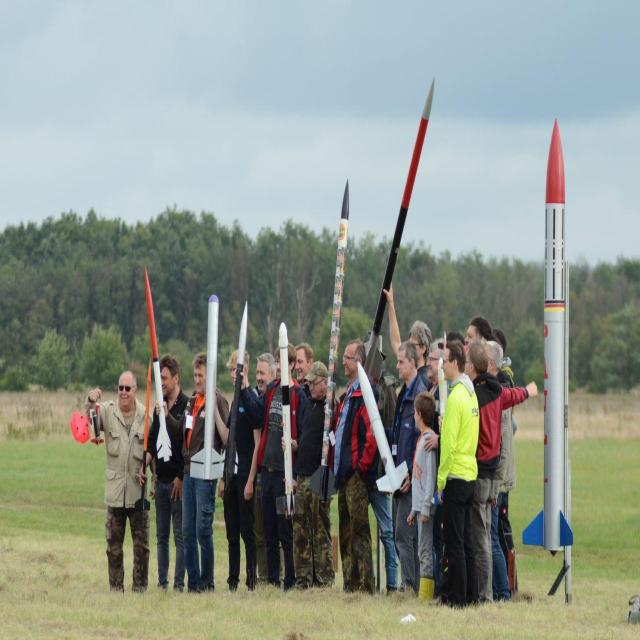Rocket: (523, 118, 573, 557), (363, 72, 436, 357), (310, 178, 350, 502), (357, 362, 409, 496), (190, 294, 224, 482), (145, 268, 173, 462), (220, 302, 248, 475), (275, 322, 299, 520), (134, 356, 152, 513), (437, 359, 449, 459)
